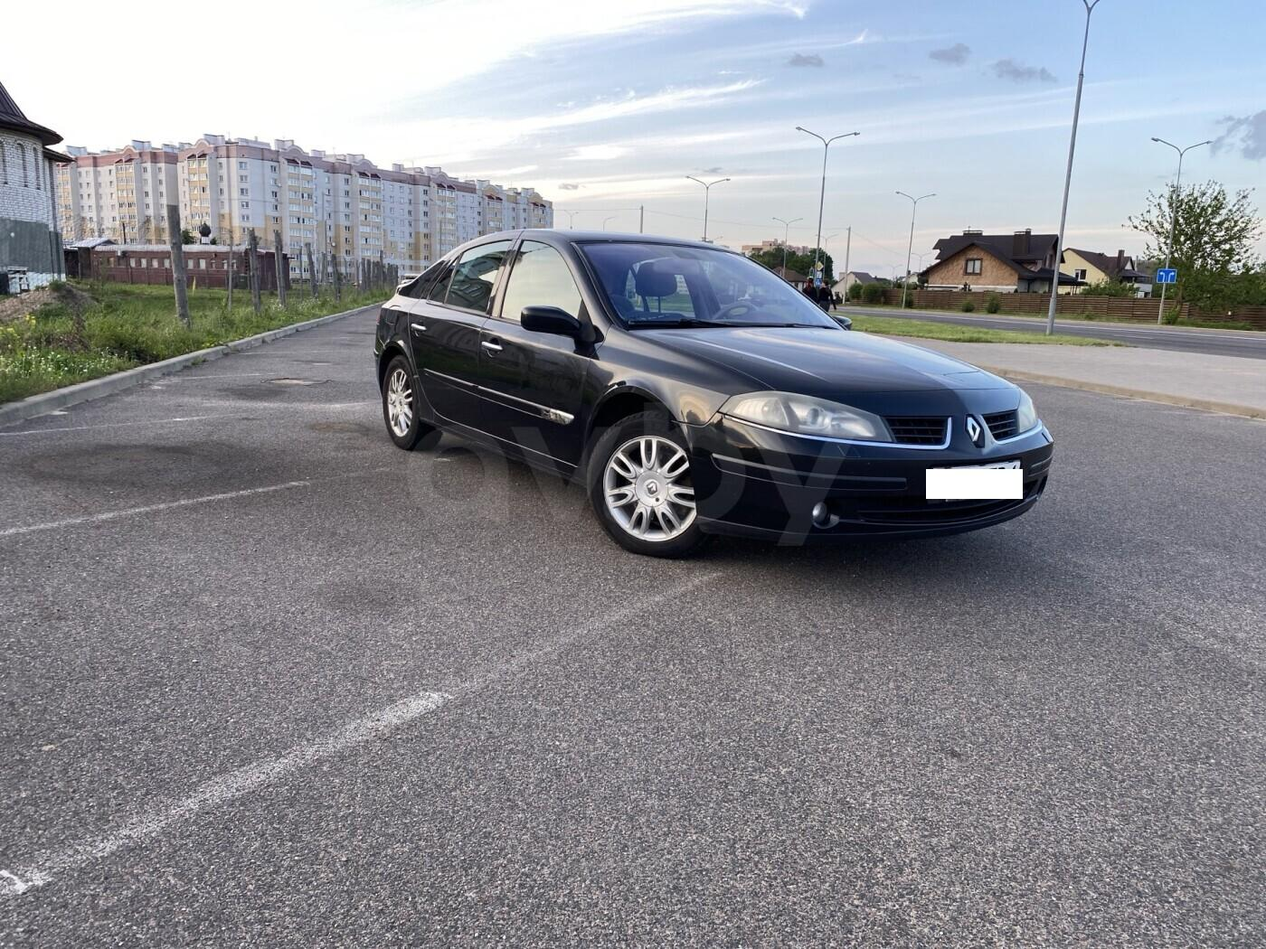Laguna_2005-2007: (368, 221, 1062, 566)
